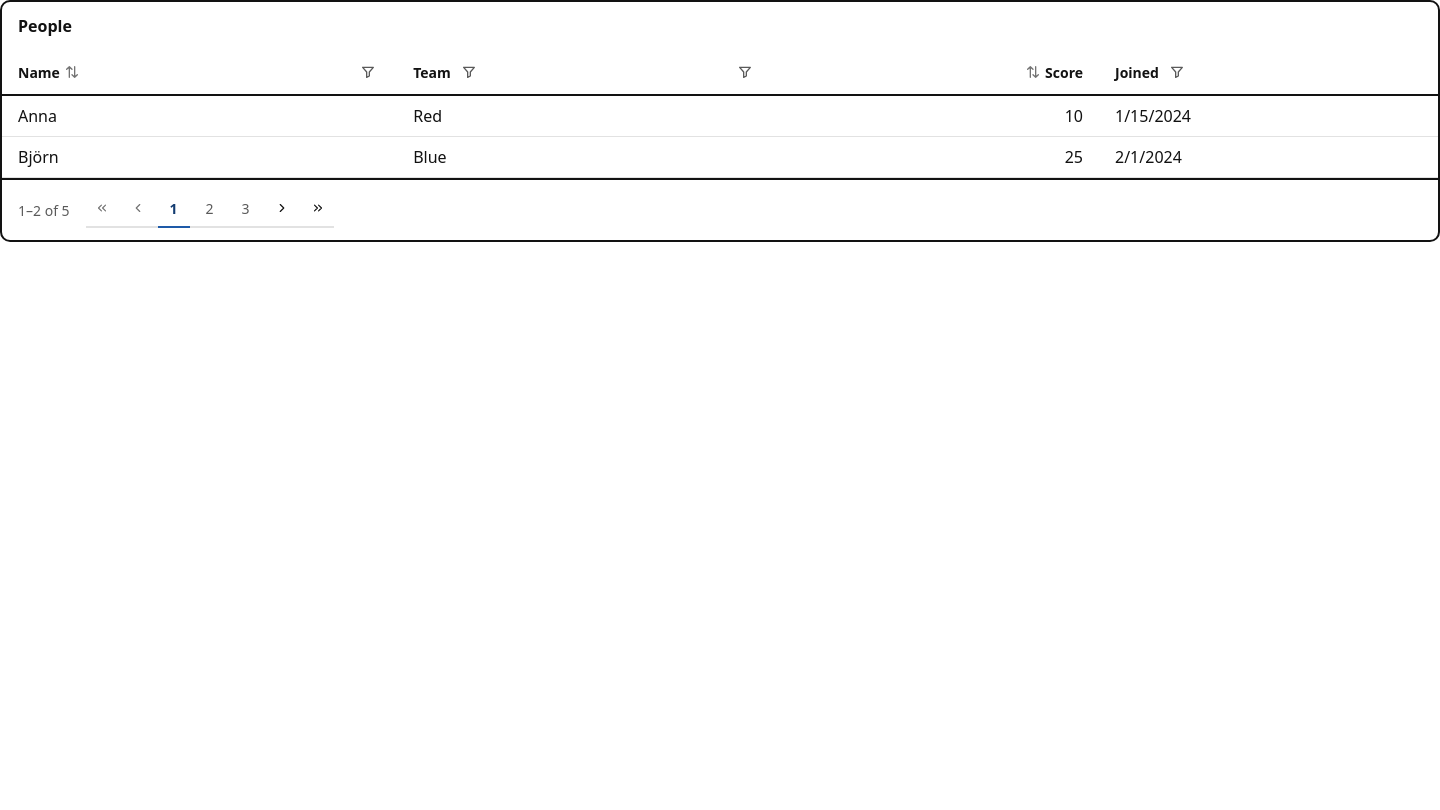
it: DataTable filters › AC-19: filtering resets the page to 0 and the paginator total reflects the filtered count
The image size is (1440, 810).
Click the button named "Page 2" at coordinates (210, 208), box [194, 192, 226, 224]
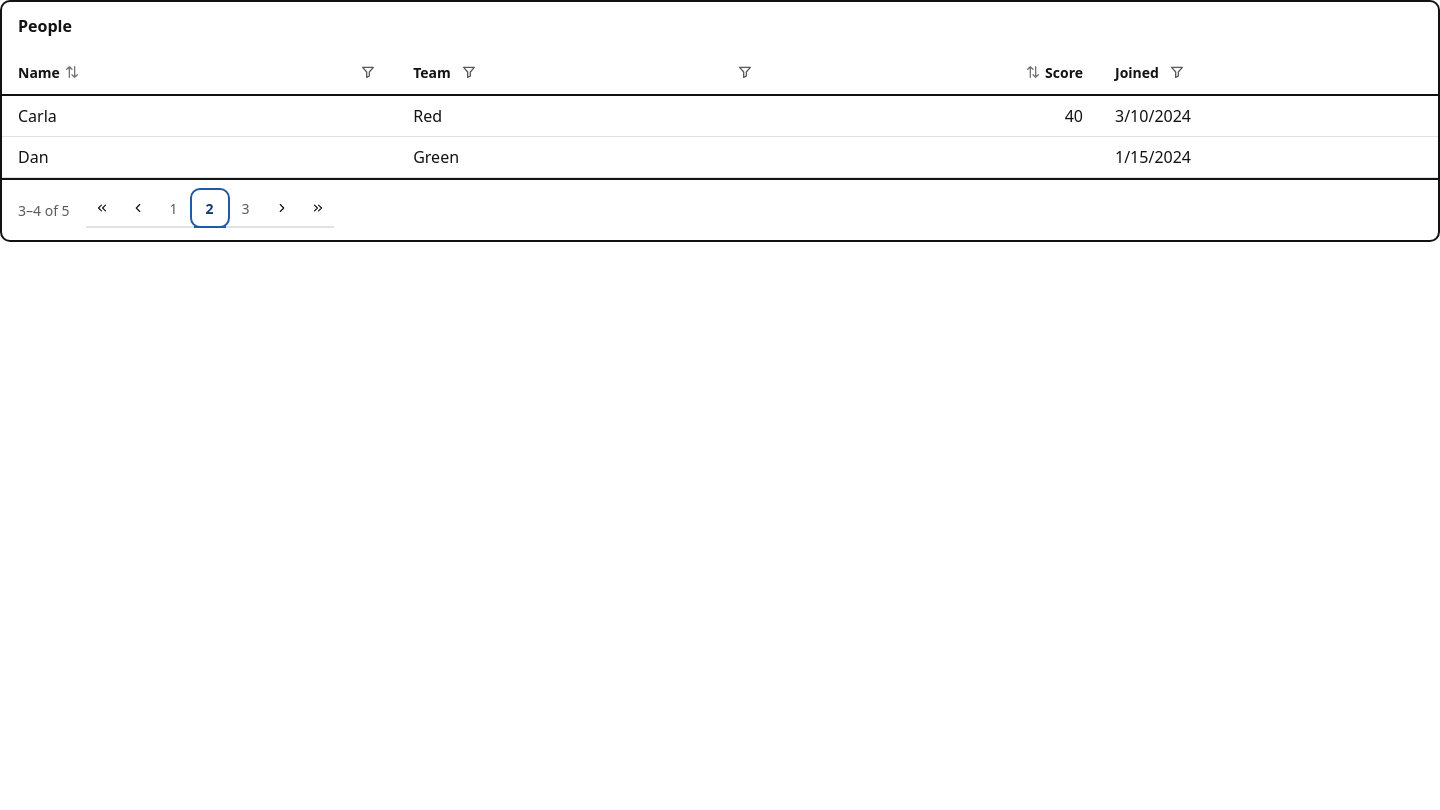
Click the button named "Filter Team" at coordinates (469, 72), box [455, 58, 483, 86]
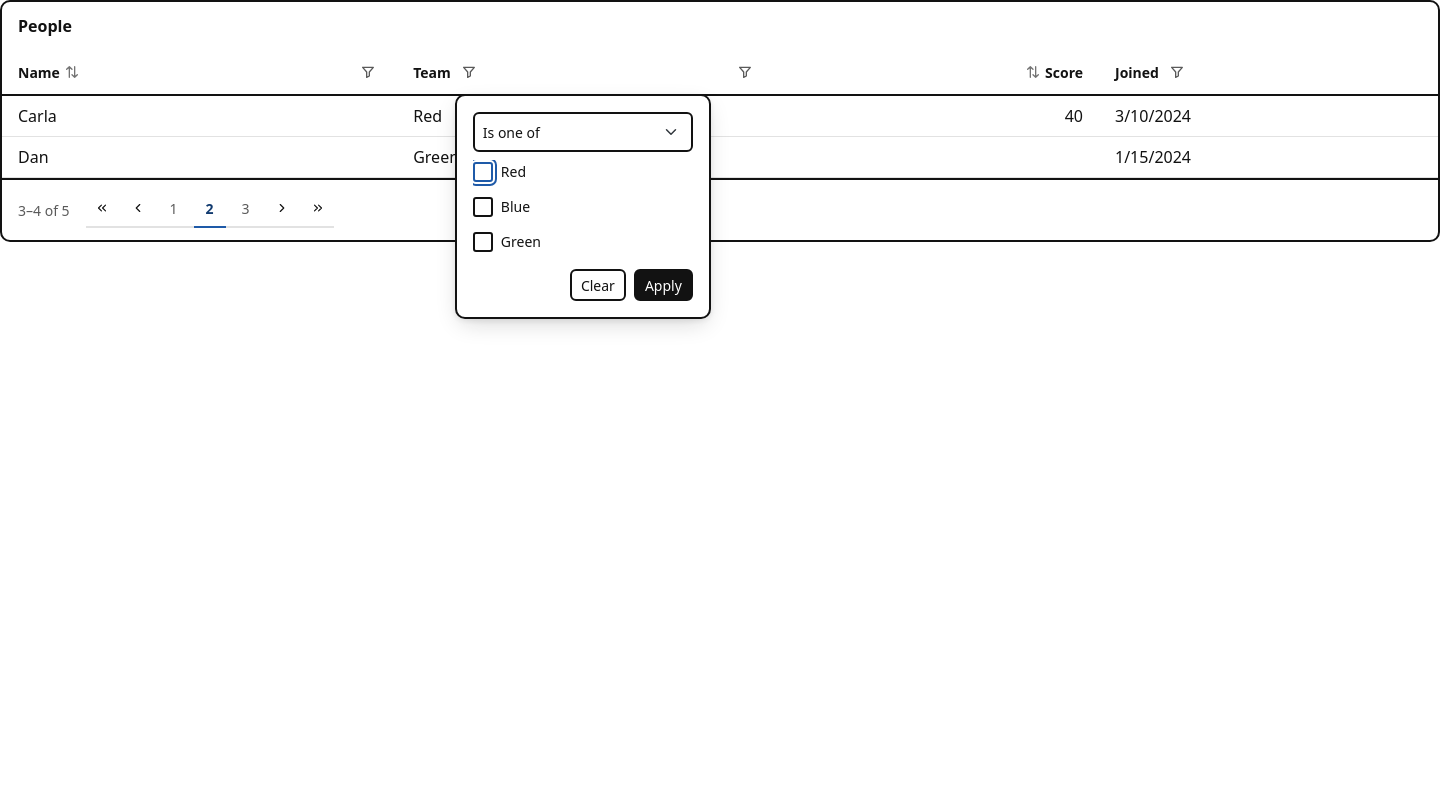
Click the checkbox labelled "Blue" at coordinates (483, 207), box [473, 197, 493, 217]
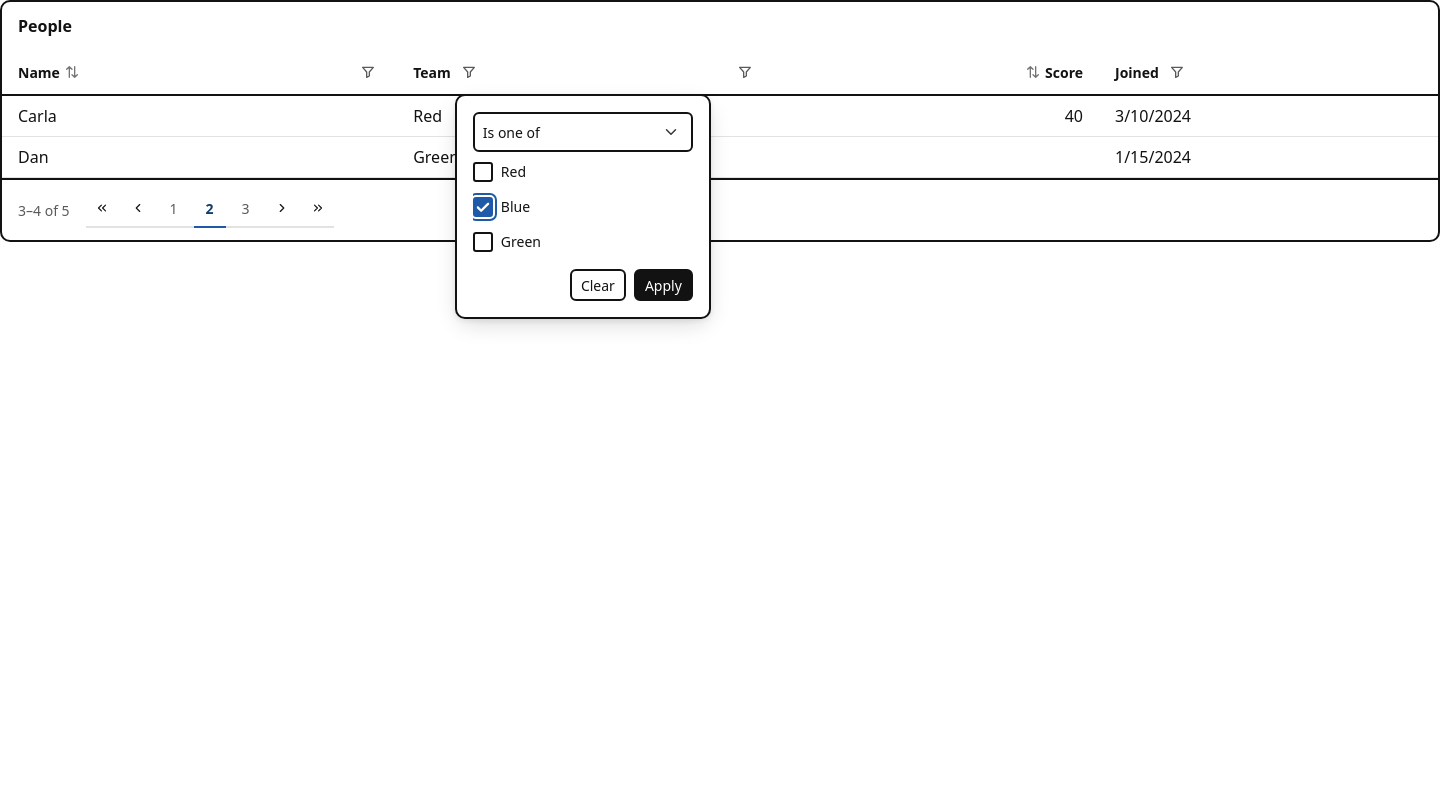
Click the button "Apply" at coordinates (663, 285), box [634, 269, 693, 301]
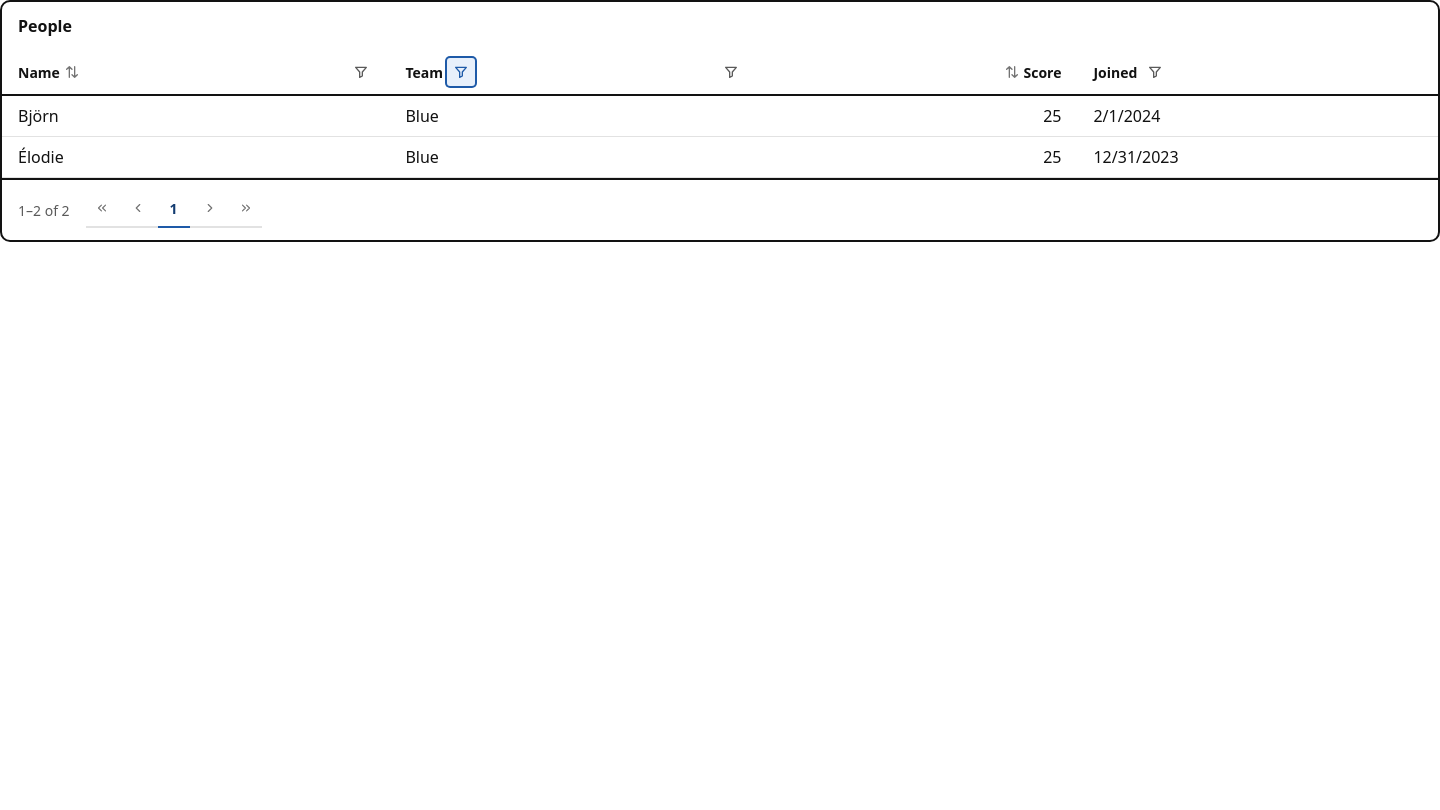
Result: the text "1–2 of 2" is shown at [18, 200, 70, 220]
